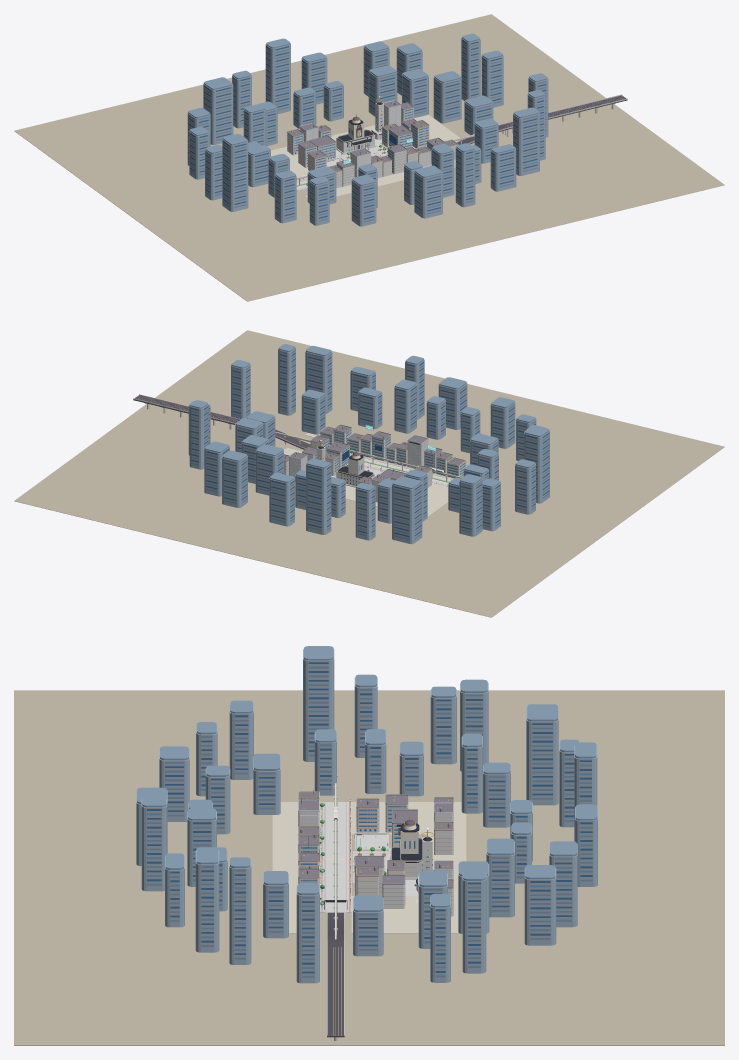
File: interlude_daily.glb
3 views of the same model, one above another, from view 1: azimuth 30°, elevation 25°; view 2: azimuth 150°, elevation 25°; view 3: azimuth 270°, elevation 25° (orthographic). The views are drawn at different scales.
Parts seen in each view (by area): view 1: skyline_pave_d_fine, skyline_far_far, skyline_far_d_fine, skyline_glass_d_fine, skyline_far_d_far, north_pave, avenue_asphalt, south_roof_detail, north_roof_detail; view 2: skyline_pave_d_fine, skyline_far_far, skyline_far_d_fine, skyline_glass_d_fine, skyline_far_d_far, north_pave, avenue_asphalt, south_roof_detail, south_glass_under_detail, south_glass_d_fine, avenue_concrete; view 3: skyline_pave_d_fine, skyline_far_far, skyline_far_d_far, skyline_far_d_fine, skyline_glass_d_fine, north_pave, COL_avenue_064, avenue_asphalt, north_roof_detail, south_roof_detail, north_warm_d_detail.
Boxes of the visible parts, x1,y1,x2,y2 form: skyline_pave_d_fine: (14, 14, 724, 301); skyline_far_far: (187, 37, 548, 226); skyline_far_d_fine: (188, 43, 546, 222); skyline_glass_d_fine: (188, 40, 546, 219); skyline_far_d_far: (188, 33, 547, 185); north_pave: (271, 114, 459, 198); avenue_asphalt: (457, 95, 627, 144); south_roof_detail: (330, 138, 457, 171); north_roof_detail: (288, 101, 428, 158); skyline_pave_d_fine: (14, 330, 724, 617); skyline_far_far: (188, 347, 549, 544); skyline_far_d_fine: (191, 350, 549, 539); skyline_glass_d_fine: (191, 353, 549, 536); skyline_far_d_far: (189, 344, 549, 491); north_pave: (284, 433, 466, 516); avenue_asphalt: (133, 395, 310, 449); south_roof_detail: (321, 425, 464, 464); south_glass_under_detail: (321, 429, 465, 474); south_glass_d_fine: (321, 430, 465, 477); avenue_concrete: (145, 403, 462, 481); skyline_pave_d_fine: (14, 690, 724, 1045); skyline_far_far: (136, 649, 597, 983); skyline_far_d_far: (137, 646, 597, 911); skyline_far_d_fine: (147, 666, 592, 977); skyline_glass_d_fine: (147, 662, 592, 973); north_pave: (272, 802, 466, 933); COL_avenue_064: (325, 802, 346, 912); avenue_asphalt: (327, 912, 344, 1037); north_roof_detail: (357, 795, 453, 887); south_roof_detail: (298, 792, 318, 877); north_warm_d_detail: (356, 798, 453, 895).
Bounding box in the file's own units: 526 × 71.25 × 440.
